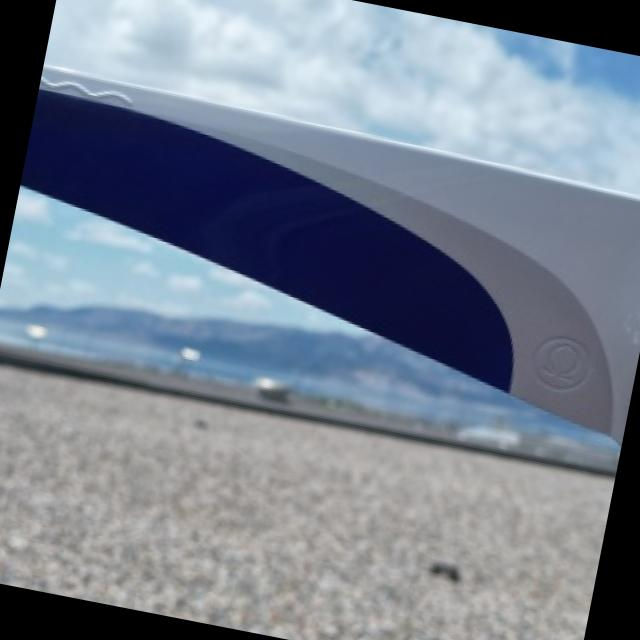healthy: (0, 64, 640, 467)
